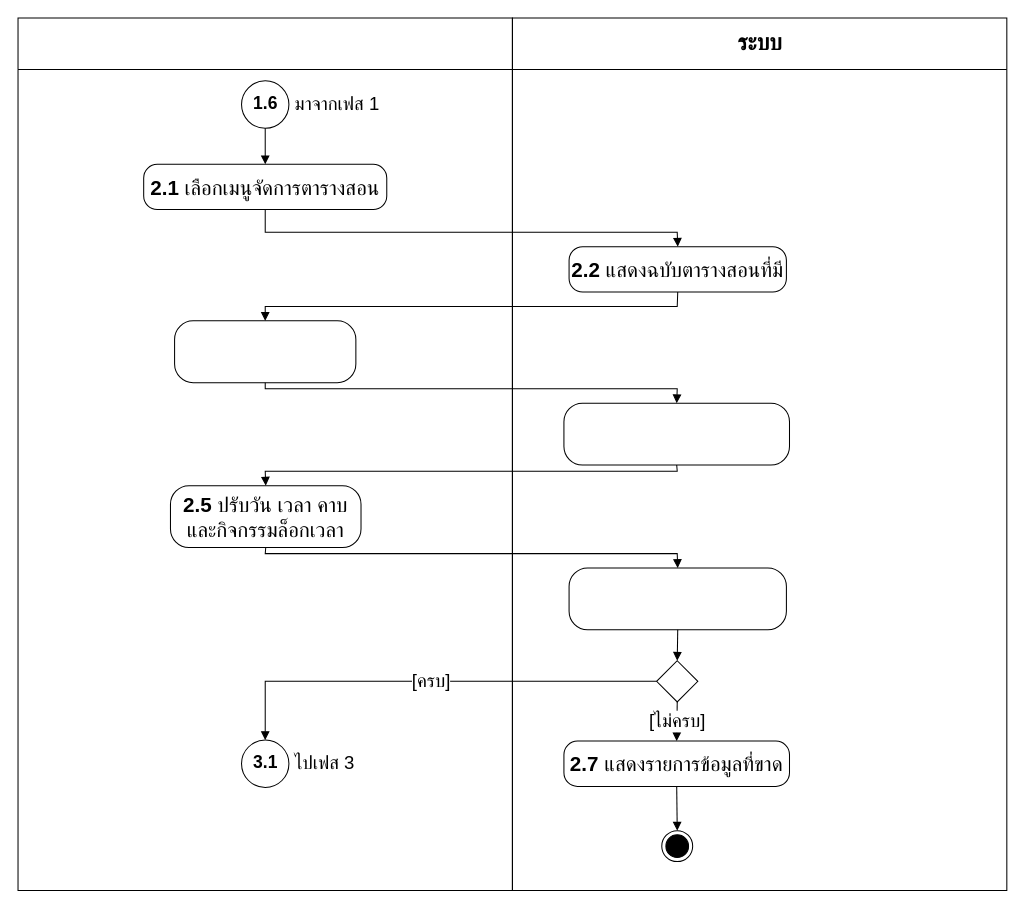
Some shapes in this 1025 by 908 pixel diagram are drawn without their labels. Each missing label, with the box of its shape:
2.3 สร้างฉบับใหม่ หรือคัดลอกจากฉบับเดิม: (174, 320, 356, 383)
2.4 สร้างฉบับร่าง และแสดง โครงสร้างเวลาตามช่วงชั้น: (563, 402, 789, 465)
2.6 ตรวจความครบถ้วนของ รายวิชา ครู ห้อง และคาบ: (568, 567, 786, 630)
ครูฝ่ายวิชาการ: (17, 17, 512, 890)
